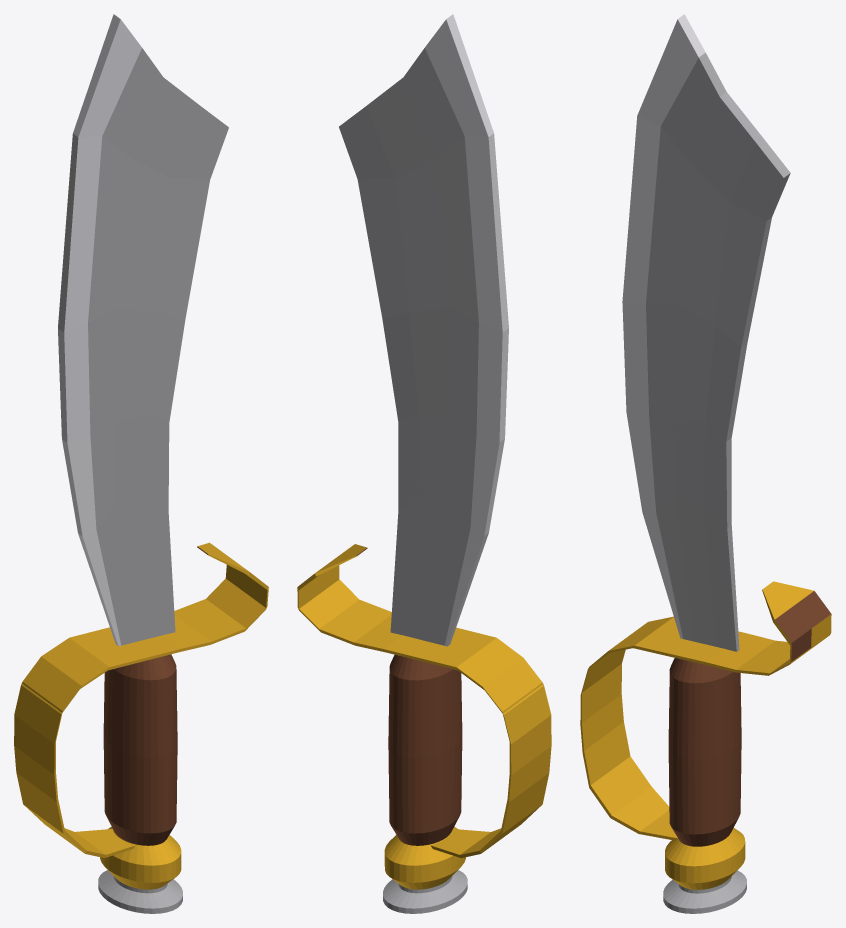
Rendered from sword.fbx.
3 renders of one model, left to right at view 1: azimuth 30°, elevation 25°; view 2: azimuth 150°, elevation 25°; view 3: azimuth 330°, elevation 25°, orthographic.
Visible parts, largest first — view 1: Cylinder; view 2: Cylinder; view 3: Cylinder.
Boxes of the visible parts, left/top/right/bottom form: Cylinder: left=14, top=14, right=268, bottom=913; Cylinder: left=297, top=14, right=551, bottom=913; Cylinder: left=580, top=14, right=831, bottom=913.
Size of the model in its own units: 613 by 2425 by 265.
